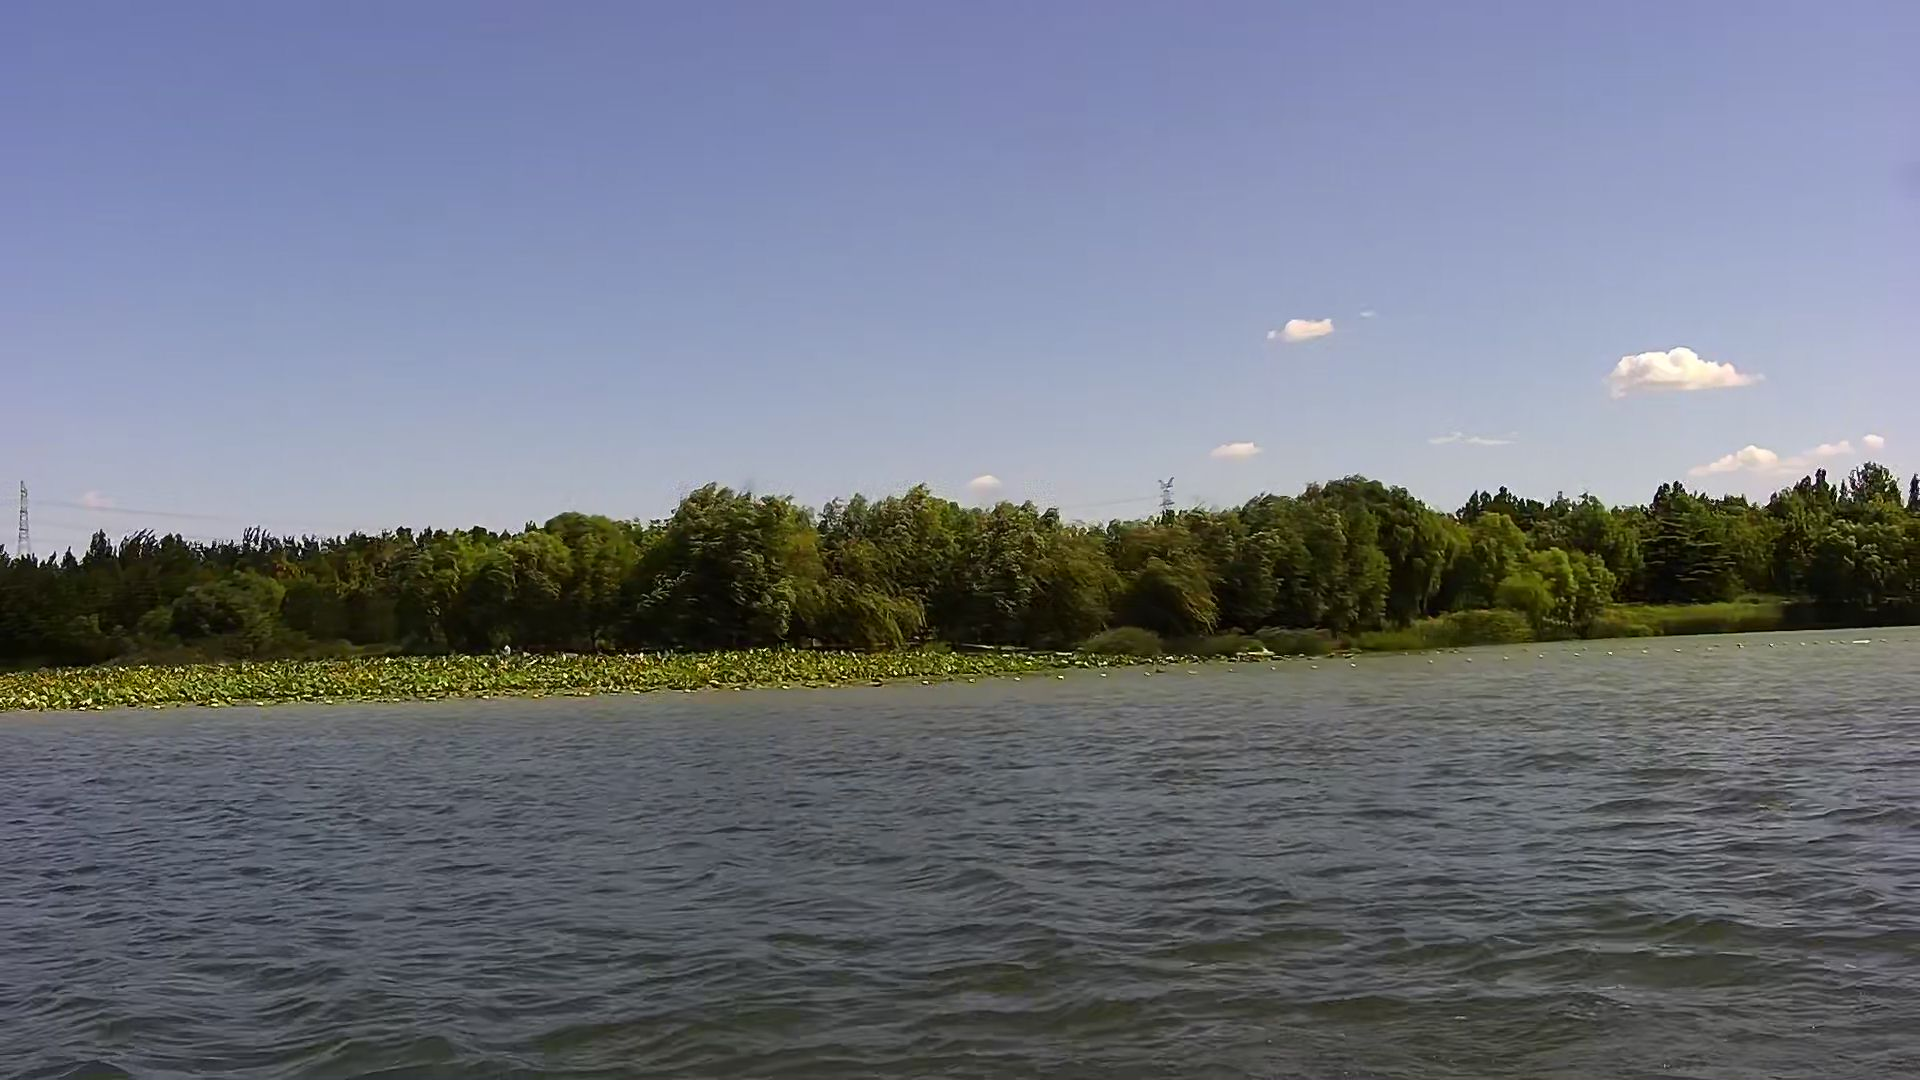grass: (1, 653, 1071, 704)
